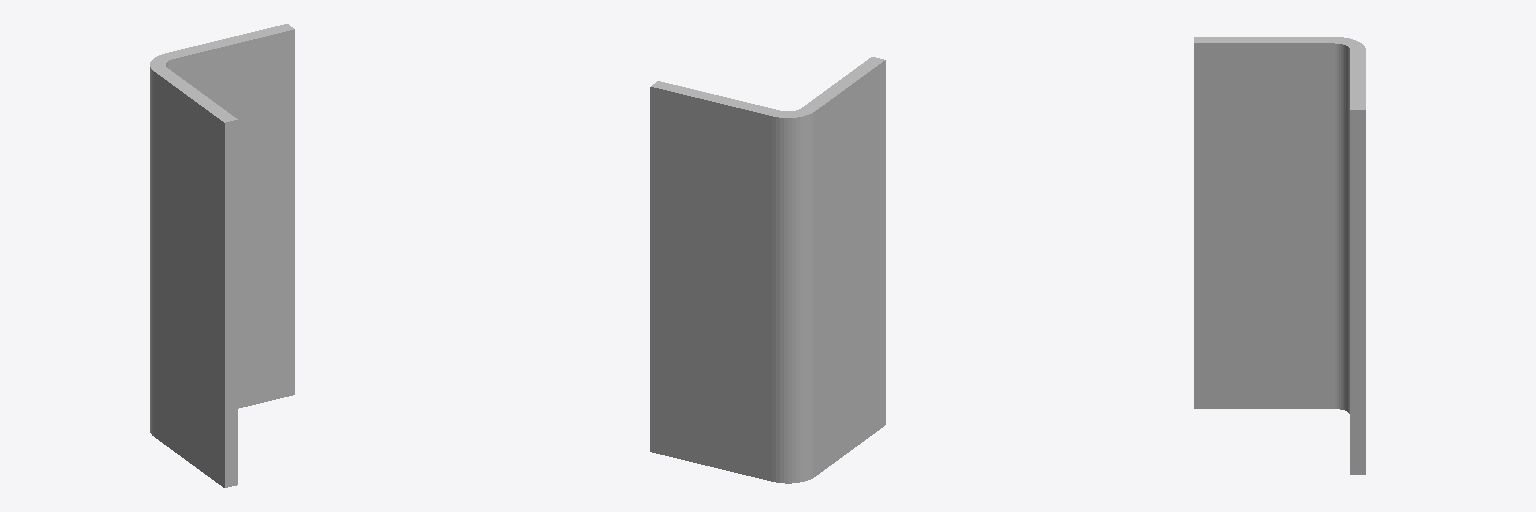
Rendered from wallCornerRond.obj.
3 views of the same model, side by side, from view 1: azimuth 30°, elevation 25°; view 2: azimuth 150°, elevation 25°; view 3: azimuth 270°, elevation 25° (orthographic).
Parts seen in each view (by area): view 1: wallCornerRond; view 2: wallCornerRond; view 3: wallCornerRond.
Boxes of the visible parts, x1=… form: wallCornerRond: x1=150, y1=24, x2=294, y2=487; wallCornerRond: x1=650, y1=57, x2=885, y2=483; wallCornerRond: x1=1194, y1=37, x2=1365, y2=474.
Size of the model in its own units: 0.55 by 1.29 by 0.55.